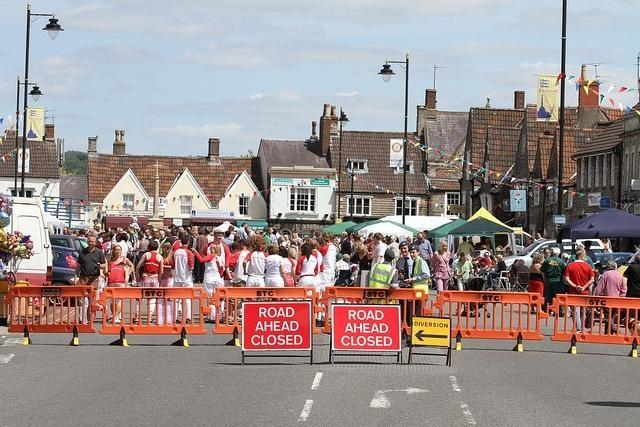car: (502, 238, 610, 270), (52, 246, 80, 288), (595, 252, 634, 270), (50, 234, 89, 250)
truck: (503, 237, 608, 268), (50, 233, 88, 256)
